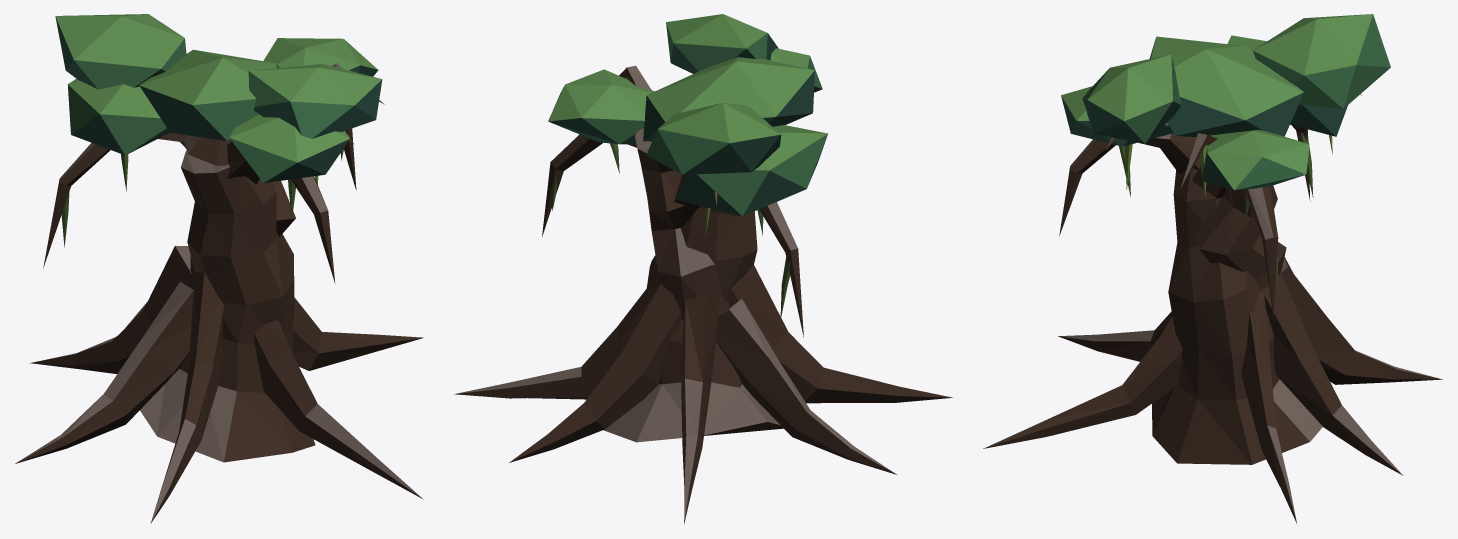
Rendered from SM_Tree_Gnarled_B.fbx.
3 views of the same model, side by side, from view 1: azimuth 30°, elevation 25°; view 2: azimuth 150°, elevation 25°; view 3: azimuth 270°, elevation 25° (orthographic). The views are drawn at different scales.
Visible parts, largest first — view 1: SM_Tree_Gnarled_B; view 2: SM_Tree_Gnarled_B; view 3: SM_Tree_Gnarled_B.
Boxes of the visible parts, x1,y1,x2,y2 form: SM_Tree_Gnarled_B: (15,14,423,523); SM_Tree_Gnarled_B: (454,14,952,524); SM_Tree_Gnarled_B: (983,14,1442,524).
Bounding box in the file's own units: 7.46 × 6.58 × 7.09.
